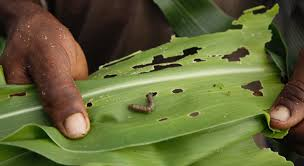Armyworm: (123, 88, 167, 121)
